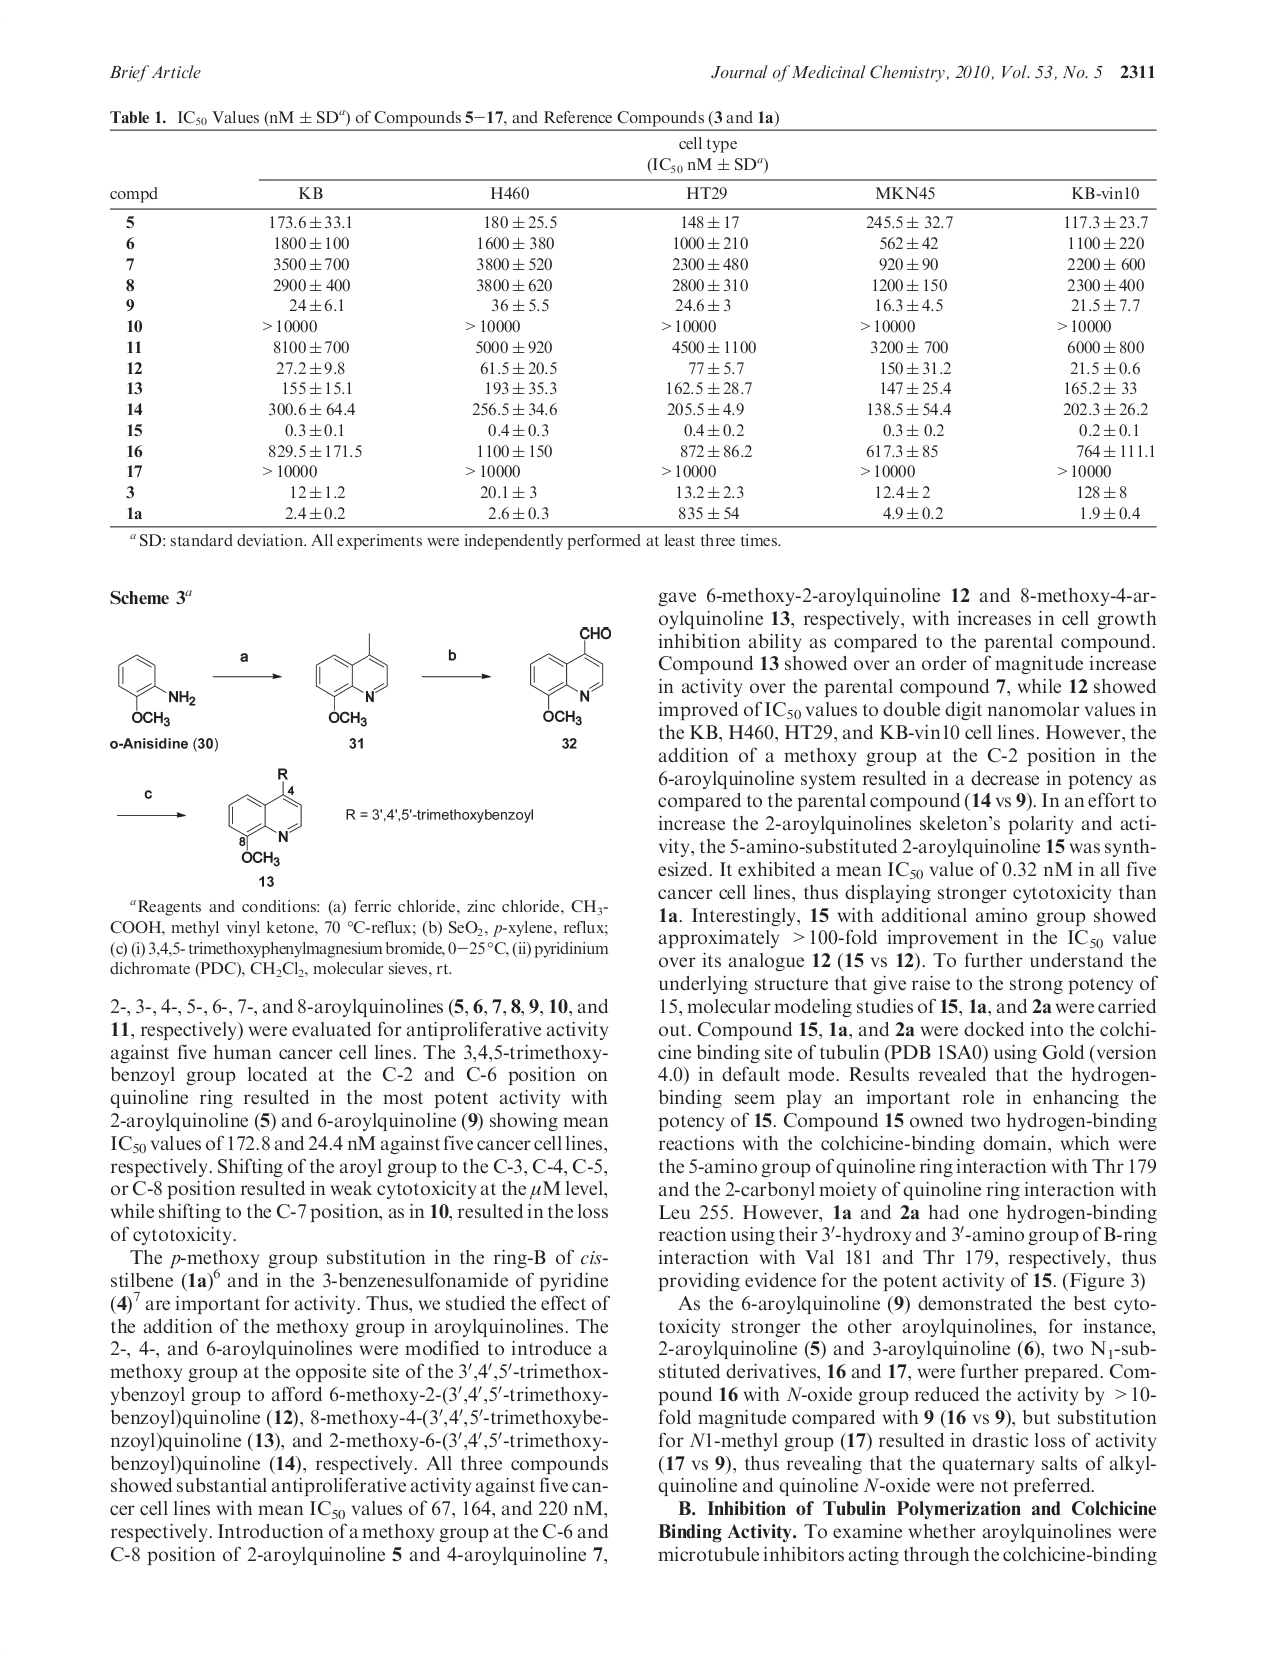exist_molecular: (528, 622, 614, 726), (227, 767, 303, 868), (314, 630, 390, 729), (116, 652, 195, 726)
